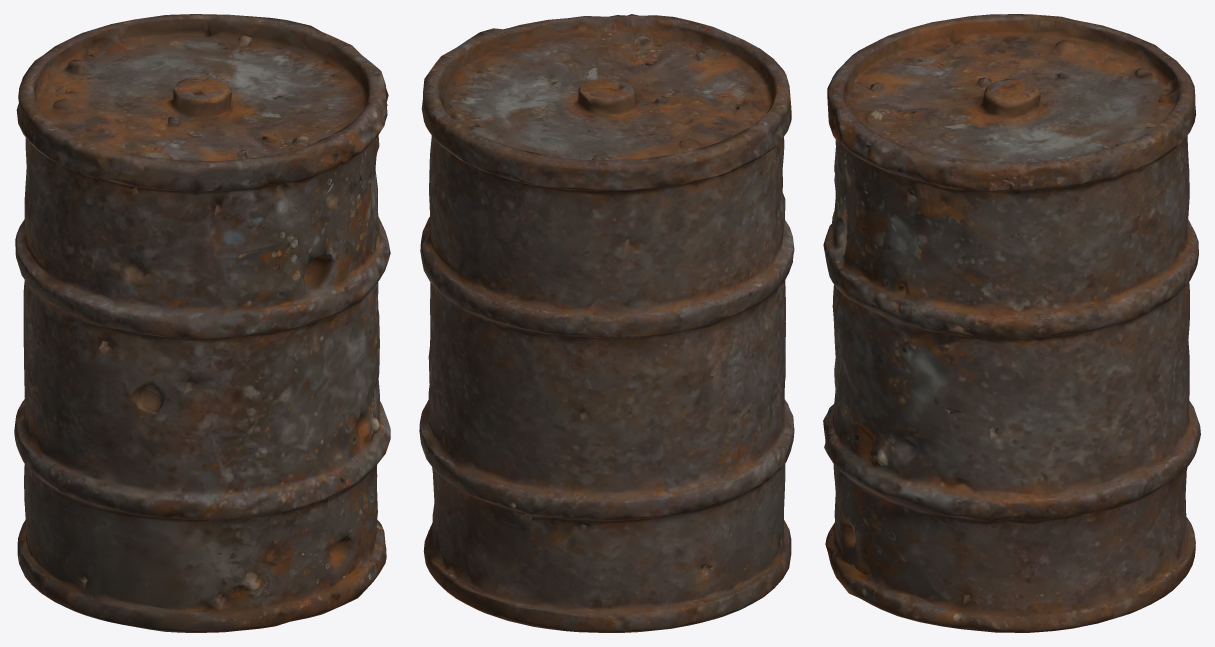
Rendered from barrel.glb.
3 renders of one model, left to right at view 1: azimuth 30°, elevation 25°; view 2: azimuth 150°, elevation 25°; view 3: azimuth 270°, elevation 25°, orthographic.
Visible parts, largest first — view 1: tripo_node_4a602477-bbc2-4a33-92aa-9fc255ba1aff; view 2: tripo_node_4a602477-bbc2-4a33-92aa-9fc255ba1aff; view 3: tripo_node_4a602477-bbc2-4a33-92aa-9fc255ba1aff.
Boxes of the visible parts, x1=… form: tripo_node_4a602477-bbc2-4a33-92aa-9fc255ba1aff: x1=14, y1=14, x2=390, y2=632; tripo_node_4a602477-bbc2-4a33-92aa-9fc255ba1aff: x1=419, y1=14, x2=794, y2=632; tripo_node_4a602477-bbc2-4a33-92aa-9fc255ba1aff: x1=823, y1=14, x2=1200, y2=632.
Bounding box in the file's own units: 0.7289 × 1 × 0.7305.
Materials: 1 (1 with a texture image).
